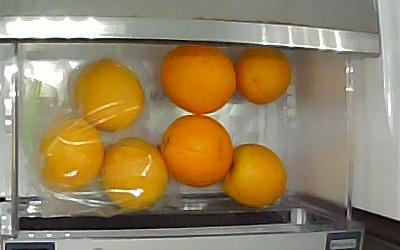orange: (159, 45, 236, 115), (159, 115, 233, 186), (222, 143, 286, 207), (236, 46, 290, 105)
orange_vinyl: (97, 138, 167, 209), (76, 59, 143, 132), (36, 120, 103, 192)
